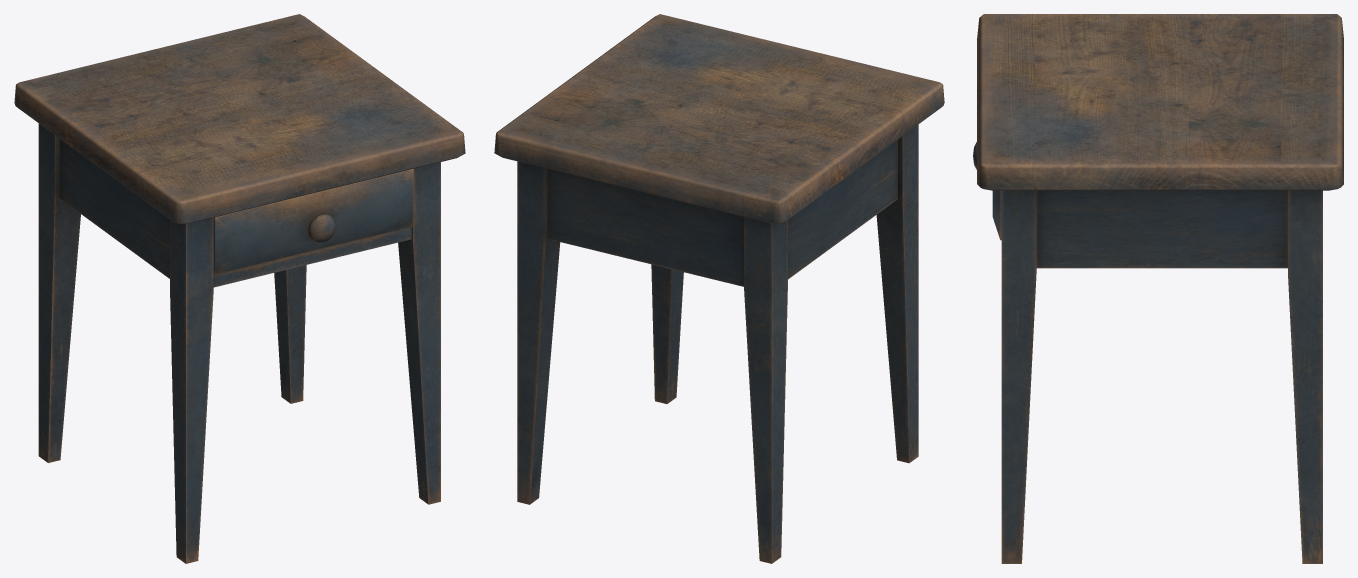
The model's file is painted_wooden_nightstand.glb.
3 views of the same model, side by side, from view 1: azimuth 30°, elevation 25°; view 2: azimuth 150°, elevation 25°; view 3: azimuth 270°, elevation 25° (orthographic). The views are drawn at different scales.
Parts seen in each view (by area): view 1: painted_wooden_nightstand, painted_wooden_nightstand_drawer; view 2: painted_wooden_nightstand; view 3: painted_wooden_nightstand, painted_wooden_nightstand_drawer.
Boxes of the visible parts, left/top/right/bottom form: painted_wooden_nightstand: left=14, top=14, right=465, bottom=563; painted_wooden_nightstand_drawer: left=213, top=168, right=413, bottom=274; painted_wooden_nightstand: left=494, top=14, right=944, bottom=563; painted_wooden_nightstand: left=977, top=14, right=1343, bottom=563; painted_wooden_nightstand_drawer: left=973, top=142, right=1001, bottom=240.
Bounding box in the file's own units: 0.5046 × 0.6155 × 0.5087.
1 material, 1 textured.
